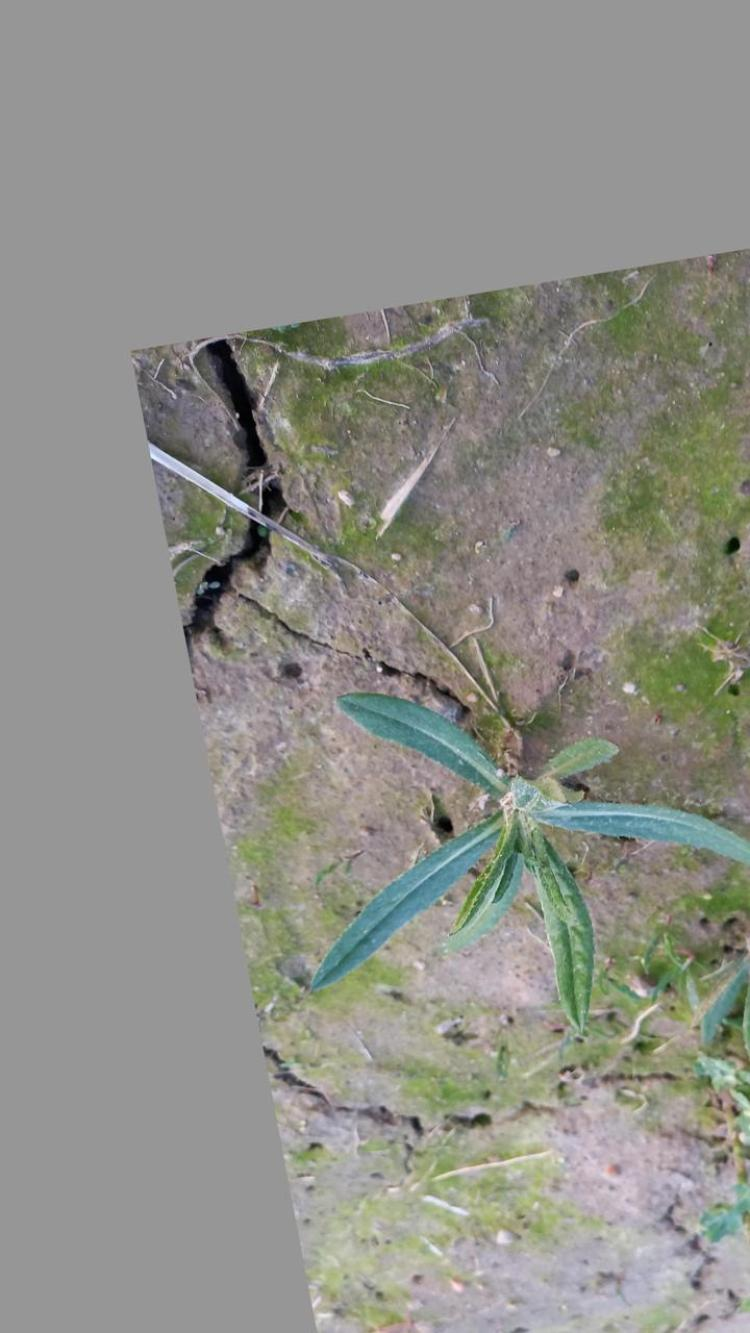osot: (298, 683, 750, 1054)
